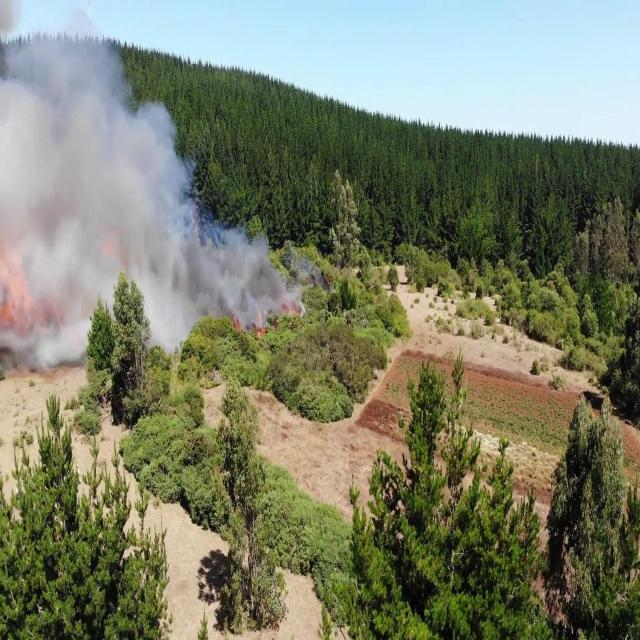Smoke: (0, 0, 176, 381), (166, 208, 296, 332)
